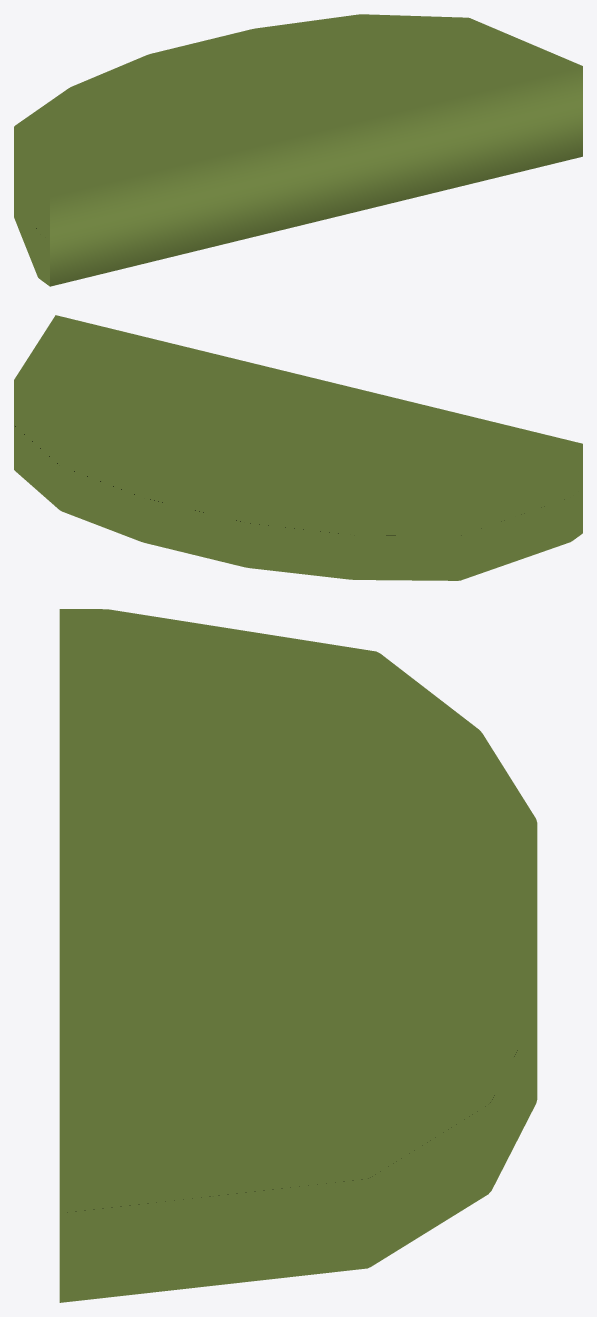
Rendered from backbackhillback.fbx.
3 renders of one model, top to bottom at view 1: azimuth 30°, elevation 25°; view 2: azimuth 150°, elevation 25°; view 3: azimuth 270°, elevation 25°, orthographic. The views are drawn at different scales.
Visible parts, largest first — view 1: backbackhillsbackt1; view 2: backbackhillsbackt1; view 3: backbackhillsbackt1.
Boxes of the visible parts, bbox=[...] form: backbackhillsbackt1: bbox=[14, 14, 582, 286]; backbackhillsbackt1: bbox=[14, 315, 582, 580]; backbackhillsbackt1: bbox=[59, 609, 537, 1302].
Bounding box in the file's own units: 0.1232 × 0.02 × 0.0483.
